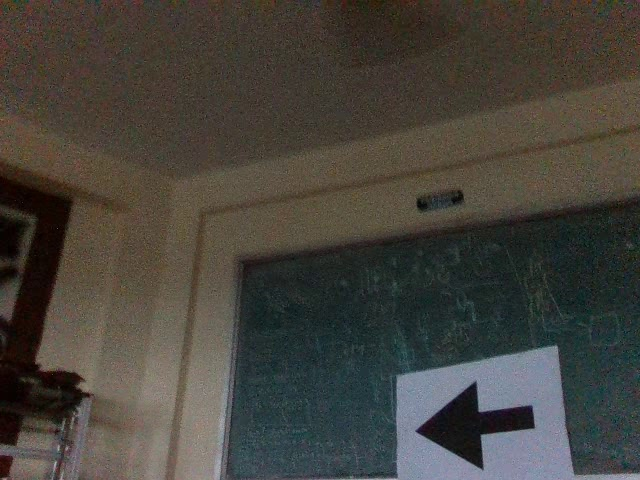Left: (414, 376, 544, 472)
